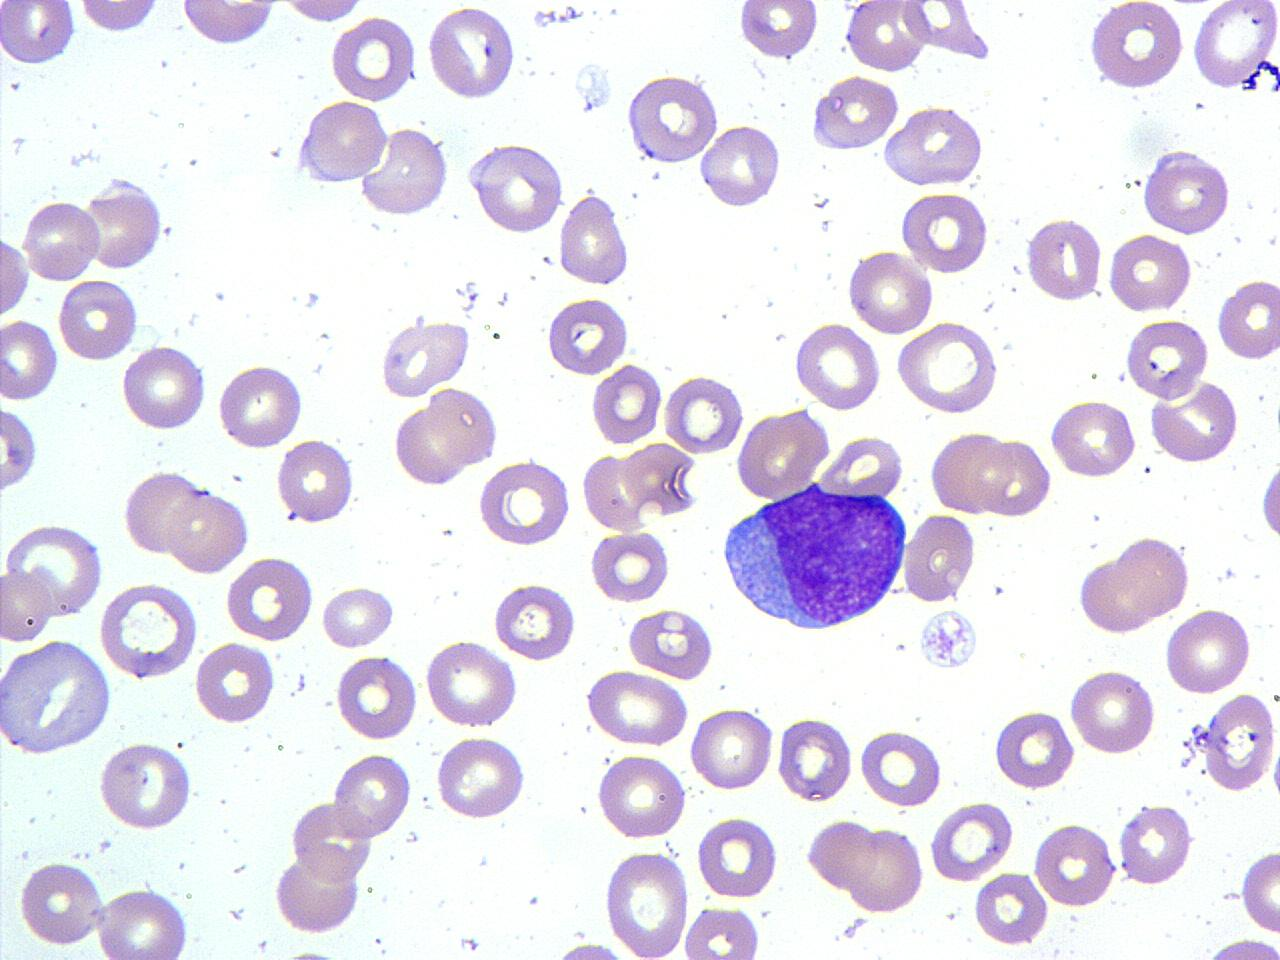Platelets: (916, 607, 979, 671), (572, 61, 612, 115), (546, 939, 632, 960), (1246, 59, 1278, 93), (283, 942, 336, 960), (1237, 66, 1265, 94), (530, 7, 558, 30), (558, 3, 584, 22), (463, 281, 480, 307), (303, 290, 322, 309), (454, 282, 472, 301), (580, 94, 596, 113), (1189, 722, 1207, 738)
RBC: (97, 579, 201, 680), (894, 320, 1002, 416), (1, 522, 106, 620), (602, 848, 690, 957), (97, 739, 193, 835), (468, 142, 564, 236), (624, 72, 721, 165), (1087, 1, 1187, 92), (734, 407, 830, 500), (422, 638, 520, 730), (476, 457, 572, 549), (425, 4, 516, 102), (359, 123, 450, 220), (882, 105, 986, 189), (594, 751, 688, 842), (585, 668, 690, 748), (1163, 604, 1253, 698), (1140, 146, 1232, 237), (846, 246, 936, 338), (224, 553, 314, 643), (1068, 666, 1158, 757), (898, 188, 991, 276), (16, 857, 104, 951), (433, 734, 528, 821), (1188, 0, 1278, 91), (216, 360, 304, 452), (794, 320, 882, 412), (120, 341, 208, 434), (1146, 378, 1240, 464), (165, 486, 251, 578), (1201, 690, 1277, 794), (82, 177, 163, 273), (334, 651, 418, 743), (377, 316, 471, 398), (688, 705, 776, 793), (302, 97, 388, 187), (1031, 820, 1117, 910), (698, 120, 782, 212), (330, 14, 415, 103), (1047, 396, 1139, 479), (1125, 316, 1211, 402), (696, 812, 780, 902), (1106, 231, 1196, 314), (120, 467, 204, 556), (274, 436, 356, 526), (809, 73, 901, 153), (846, 824, 926, 916), (56, 276, 141, 363), (191, 639, 276, 725), (290, 798, 374, 884), (928, 428, 1012, 514), (927, 799, 1014, 882), (333, 750, 413, 840), (93, 886, 190, 960), (858, 725, 942, 810), (544, 294, 630, 378), (273, 855, 361, 937), (1024, 214, 1104, 304), (662, 372, 746, 457), (992, 708, 1076, 792), (558, 191, 630, 288), (902, 512, 976, 607), (20, 196, 102, 280), (777, 714, 854, 804), (493, 580, 577, 662), (1116, 802, 1196, 886), (1115, 534, 1193, 620), (625, 606, 716, 679), (589, 526, 671, 606), (977, 436, 1054, 520), (1076, 554, 1154, 637), (590, 360, 663, 446), (844, 0, 928, 74), (426, 384, 500, 469), (972, 868, 1049, 948), (818, 433, 906, 502), (393, 404, 466, 486), (804, 816, 878, 892), (1215, 276, 1279, 363), (896, 0, 986, 58), (0, 316, 60, 402), (0, 0, 76, 69), (319, 583, 396, 650), (736, 0, 818, 61), (682, 902, 764, 960), (180, 0, 278, 48), (1, 566, 54, 644), (0, 406, 41, 497), (1239, 844, 1279, 936), (74, 0, 164, 35), (0, 229, 31, 320), (275, 0, 371, 26), (1255, 456, 1279, 551), (1203, 936, 1280, 960)
WBC: (719, 476, 911, 633), (0, 636, 115, 760)
